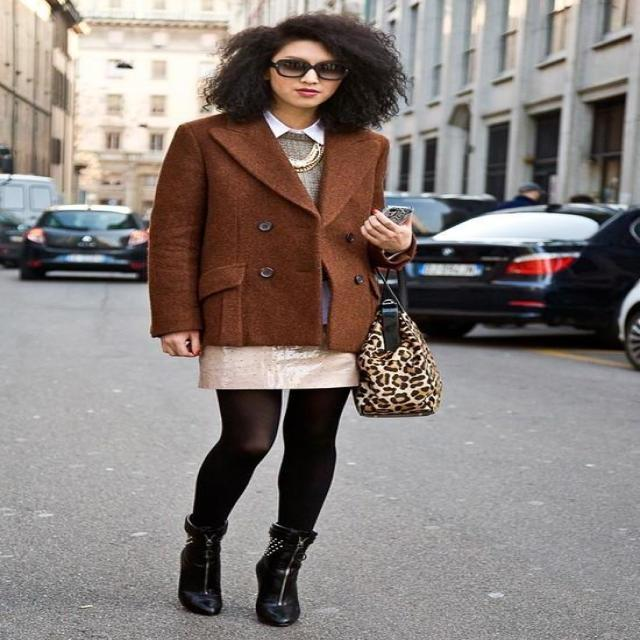sweater: (146, 112, 415, 353)
